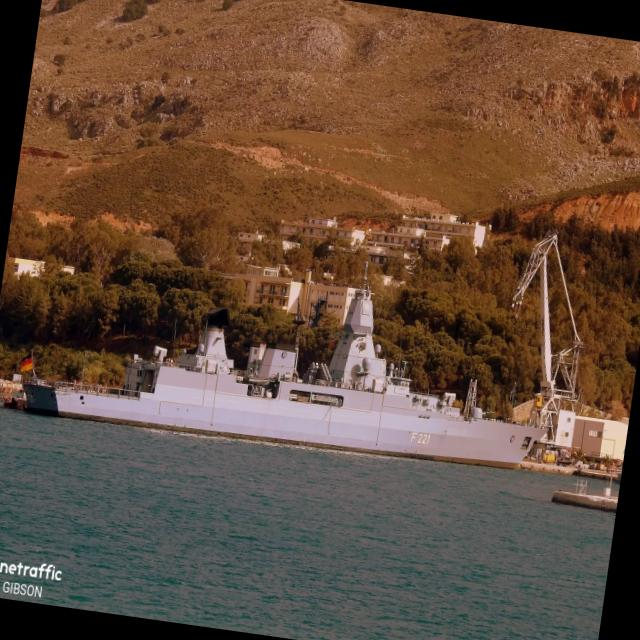Military: (26, 289, 546, 467)
